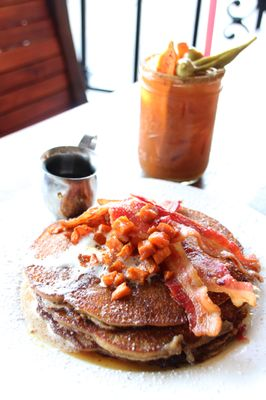pizza: (138, 43, 226, 186), (40, 145, 98, 221)
soup: (19, 194, 262, 364)
